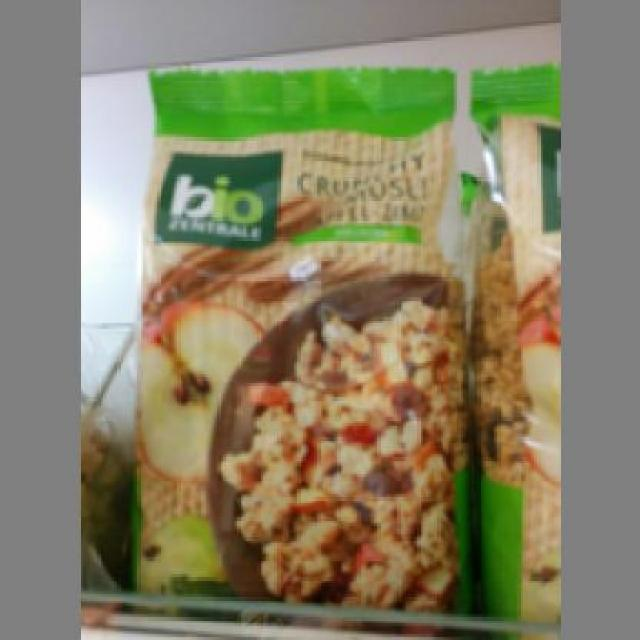Cereal: (126, 65, 480, 638)
